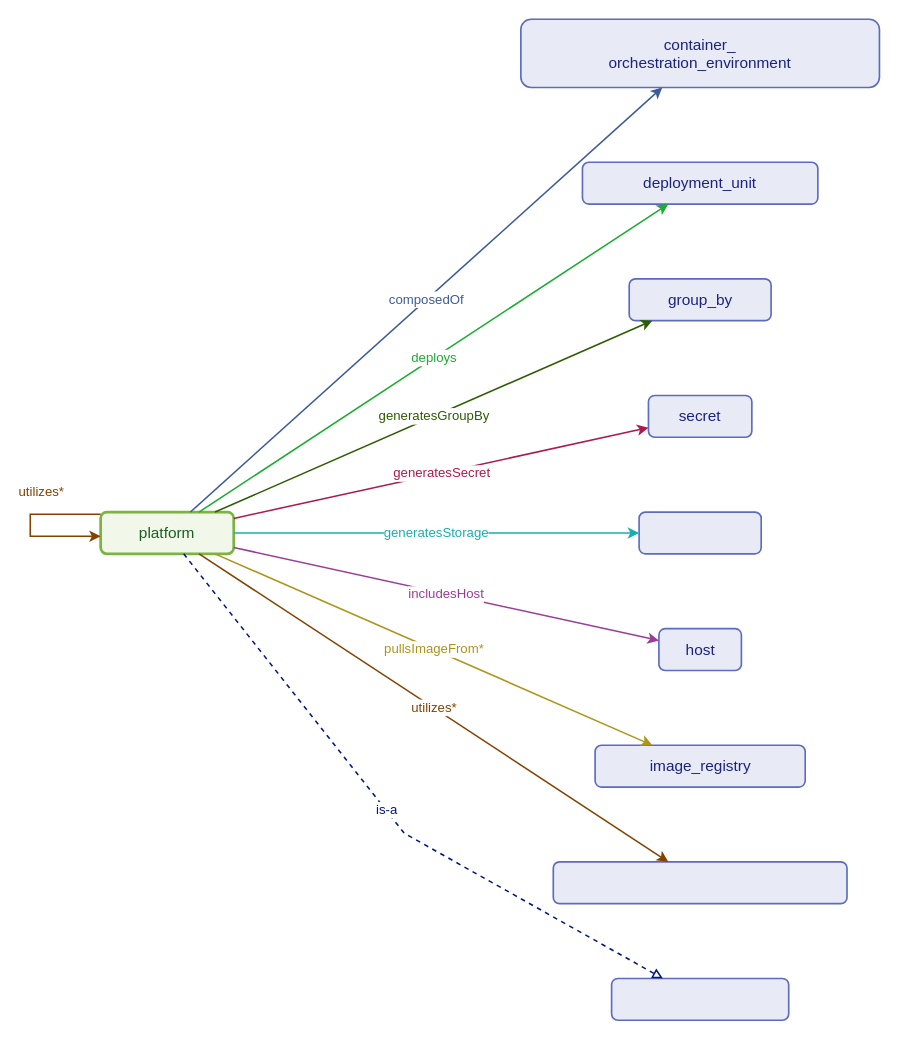
Some shapes in this 900 by 1041 pixel diagram are drawn without their labels. Here are the shapes that lost their labels. From the top down, the centre of each, then its label:
At (x=700, y=532): "storage".
At (x=699, y=882): "runtime_environment".
At (x=699, y=999): "subplatform".
